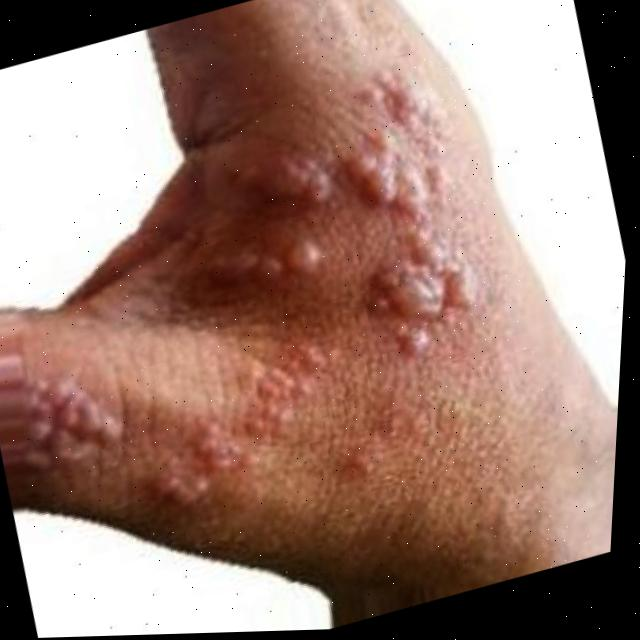Shingles: (184, 46, 506, 377), (135, 362, 336, 520), (21, 369, 132, 479)
